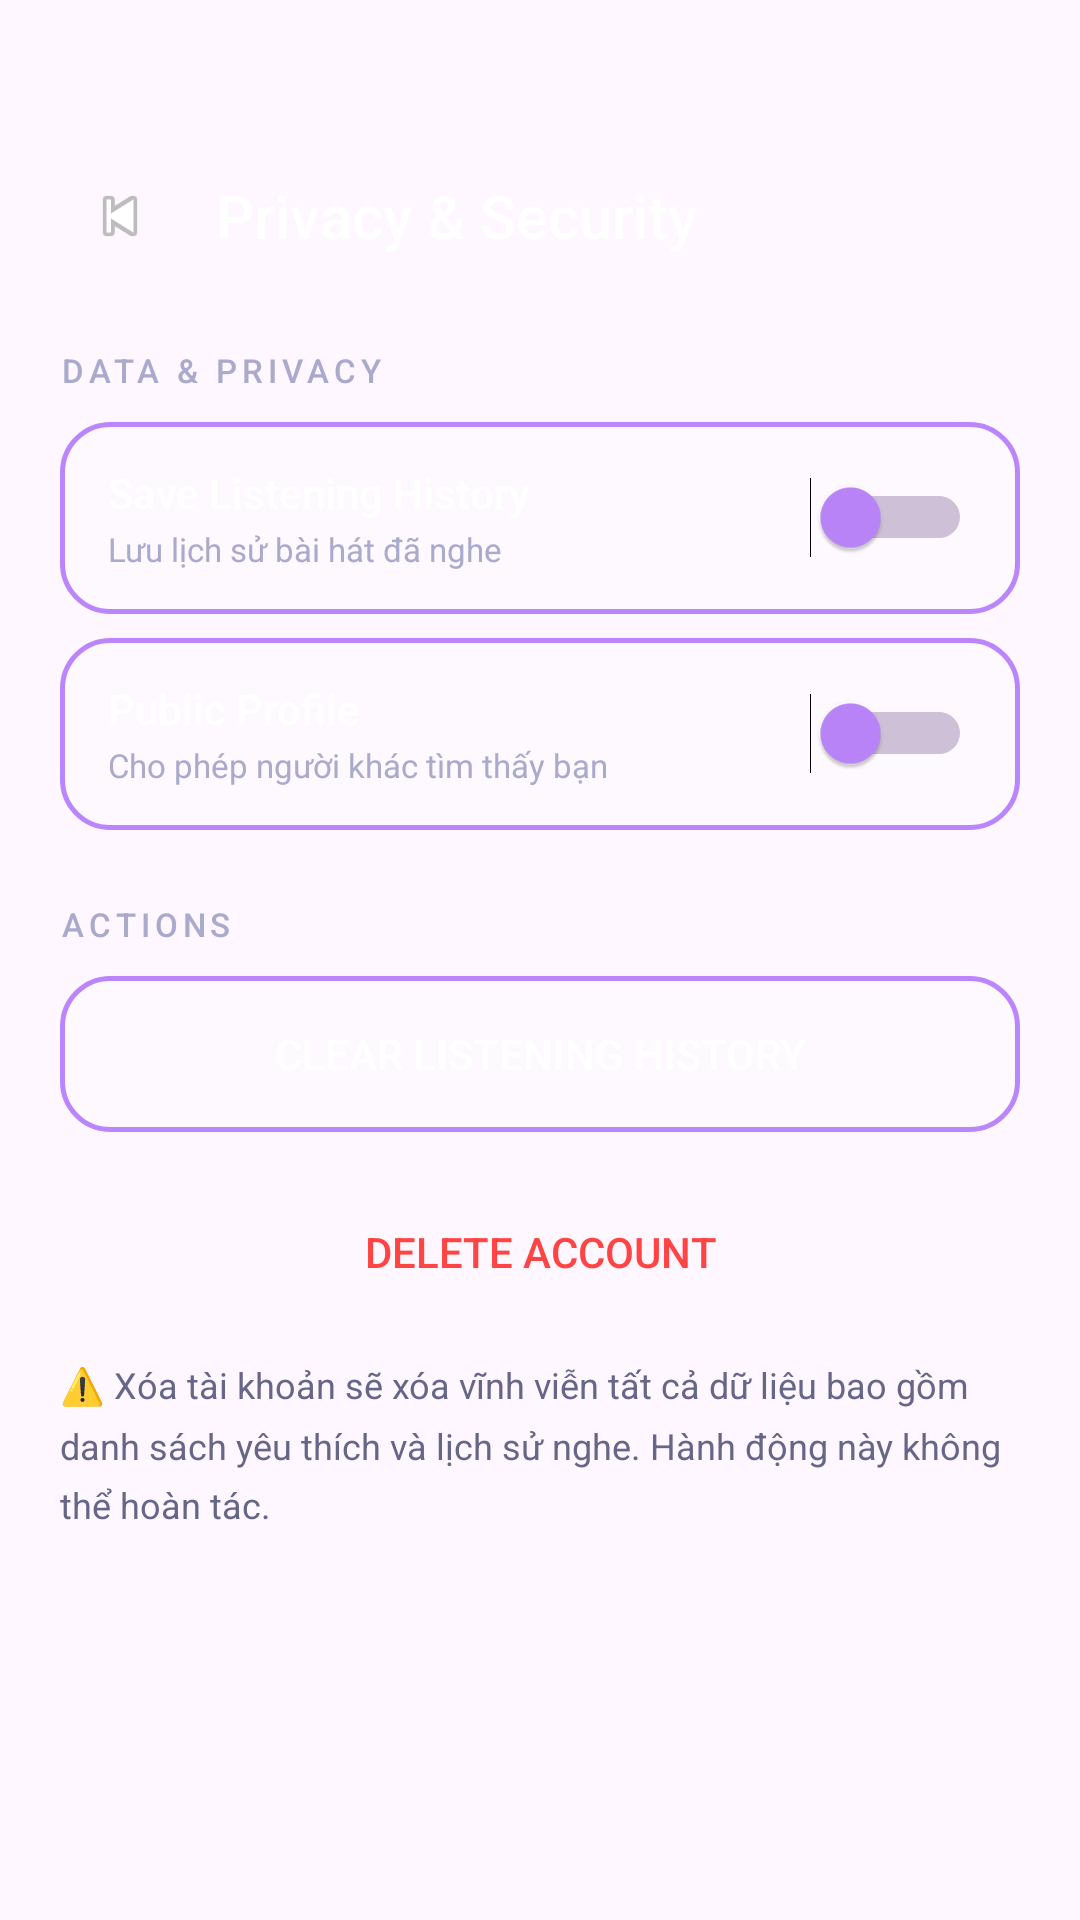

Point at icon controls on the screen. Image size 1080 x 1920, points as (x,y).
previous: (120,216)
